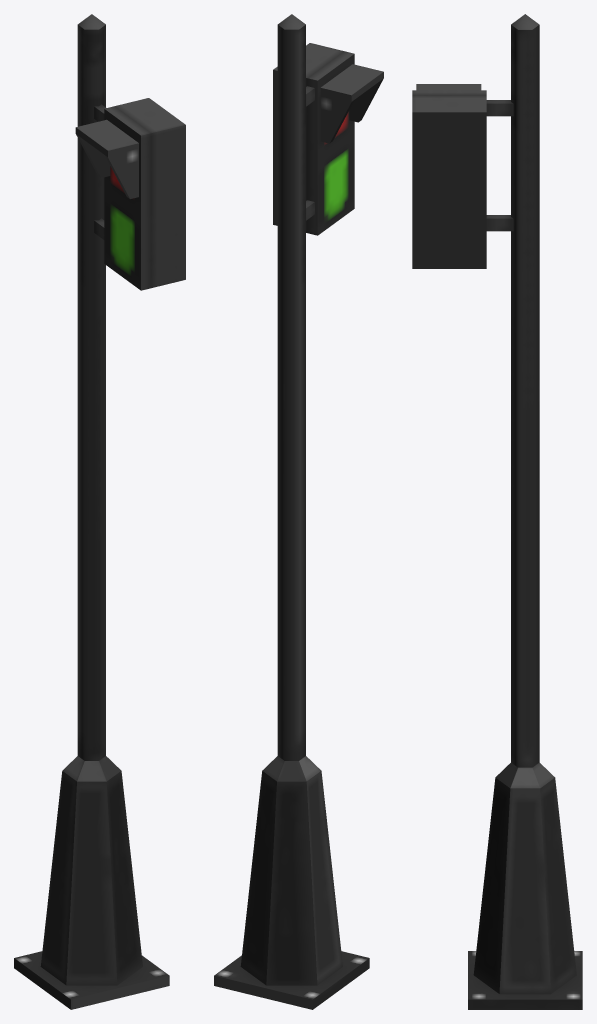
File: Street_Light_001_G.FBX
3 views of the same model, side by side, from view 1: azimuth 30°, elevation 25°; view 2: azimuth 150°, elevation 25°; view 3: azimuth 270°, elevation 25° (orthographic).
Parts seen in each view (by area): view 1: Street_Light_001_G; view 2: Street_Light_001_G; view 3: Street_Light_001_G.
Part boxes in pixels (x1=…): Street_Light_001_G: x1=14, y1=14, x2=185, y2=1009; Street_Light_001_G: x1=214, y1=14, x2=383, y2=1009; Street_Light_001_G: x1=412, y1=14, x2=582, y2=1009.
Bounding box in the file's own units: 30 × 44.51 × 280.
